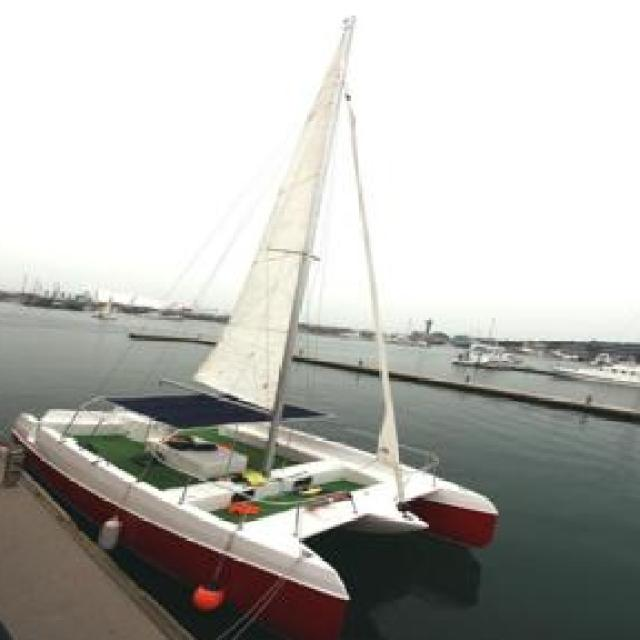sailboat: (24, 10, 483, 601)
